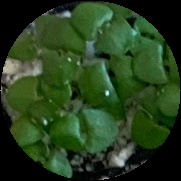Basil: (80, 5, 138, 57), (84, 55, 139, 103), (43, 22, 81, 84), (54, 112, 121, 147), (10, 104, 56, 148), (7, 77, 70, 107), (24, 143, 75, 180), (131, 99, 170, 145), (134, 43, 181, 80)
